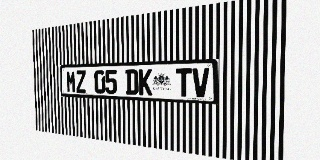0: (94, 70, 105, 94)
5: (105, 70, 117, 94)
D: (125, 69, 138, 95)
K: (139, 69, 152, 96)
M: (66, 71, 76, 93)
T: (176, 68, 192, 97)
V: (192, 68, 209, 98)
Z: (76, 70, 86, 93)
